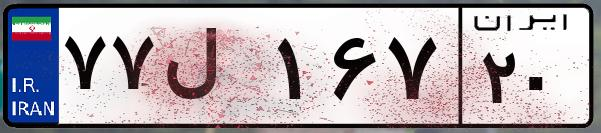0: (525, 38, 570, 115)
1: (270, 28, 330, 110)
2: (475, 38, 525, 113)
6: (330, 28, 385, 110)
7: (385, 28, 445, 110), (57, 26, 110, 100), (110, 28, 158, 98)
ل: (158, 20, 270, 120)
